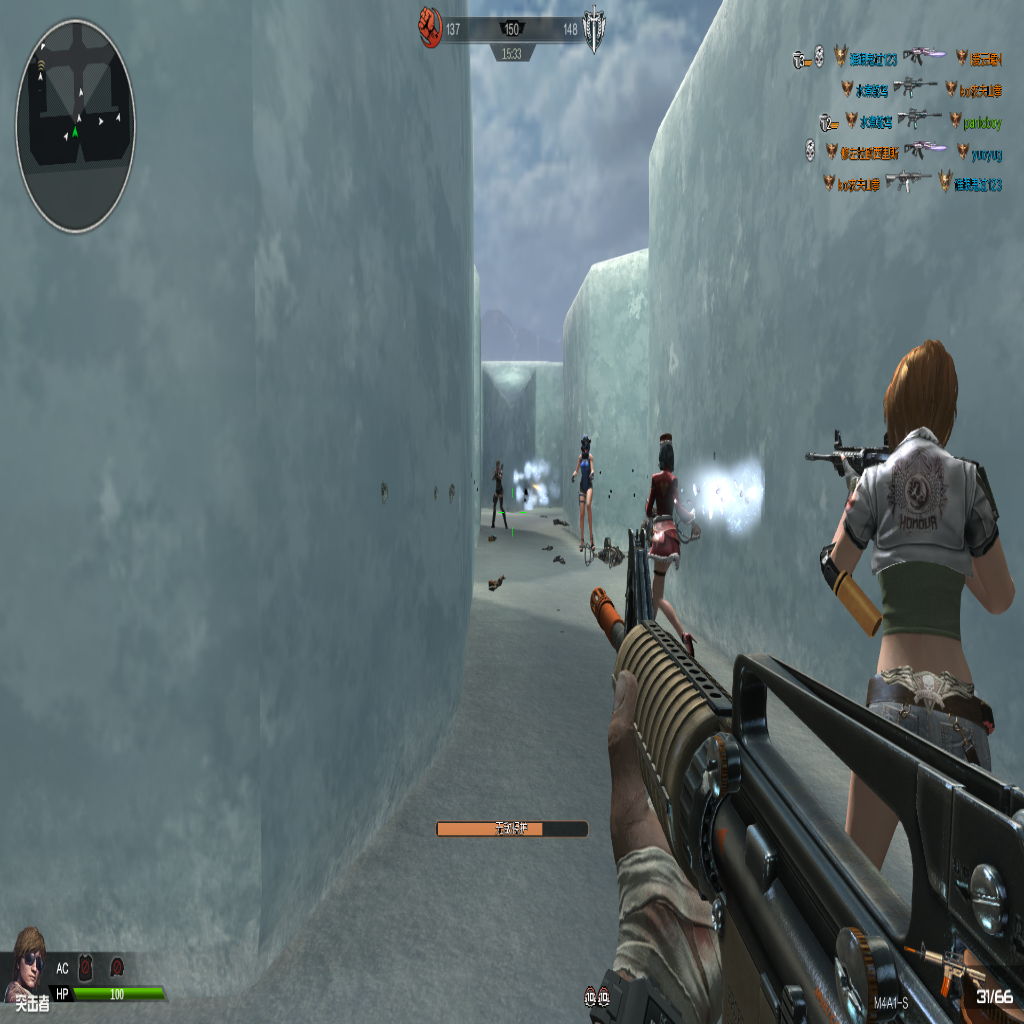ct: (573, 432, 595, 556), (491, 457, 507, 530)
tt: (814, 321, 1017, 765), (639, 433, 691, 628)
